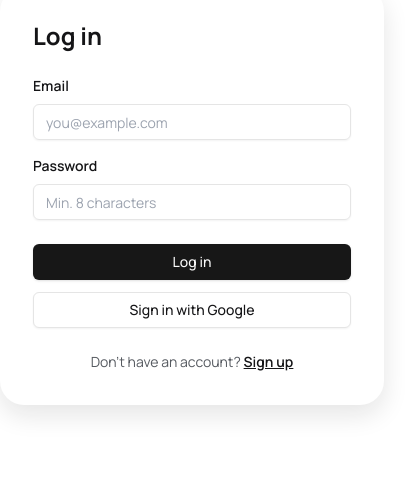
Test case: LoginPage › shows server error on failed login
Type "user@example.com" into the field labelled "Email" at (192, 122), box [33,104,351,140]
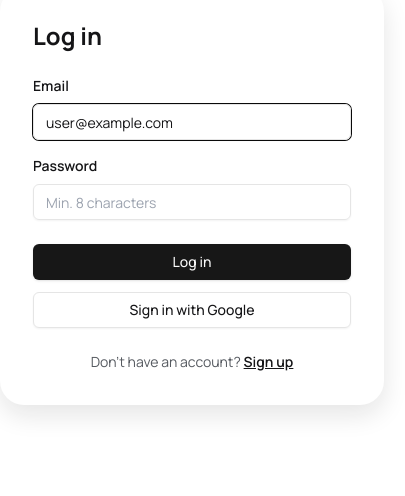
Type "wrongpassword" into the password field labelled "Password" at (192, 202), box [33,184,351,220]
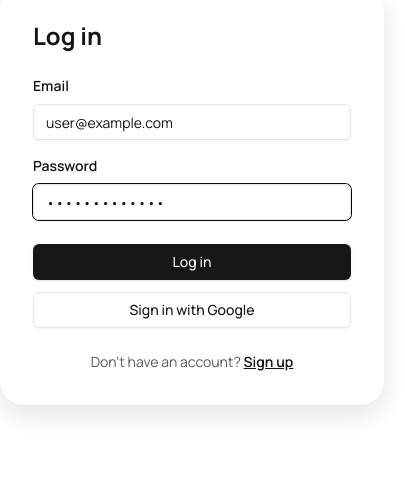
Click the button "Log in" at (192, 262), box [33,244,351,280]
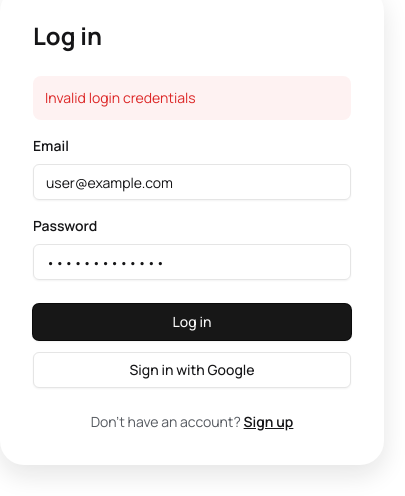
Expected: the text "Invalid login credentials" is shown, [33,76,351,120]
